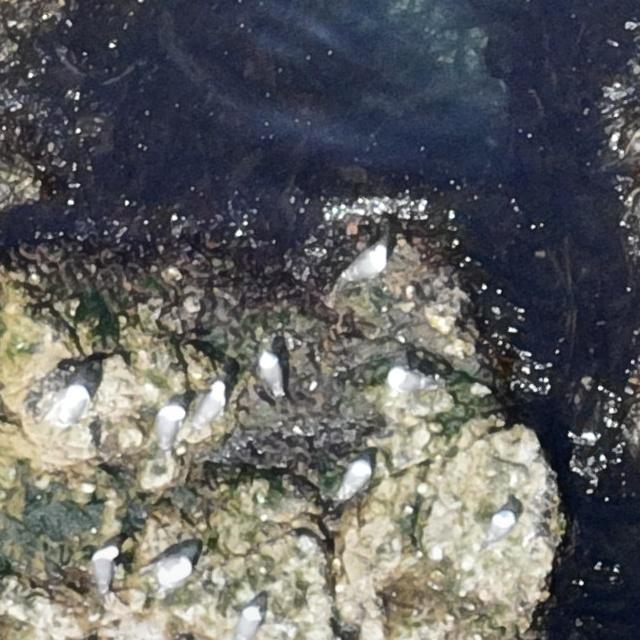umineko: (189, 381, 225, 436), (155, 404, 185, 456), (54, 384, 89, 428), (336, 460, 370, 501), (388, 367, 436, 395), (91, 546, 119, 594), (482, 510, 516, 547), (154, 557, 192, 587), (350, 249, 388, 277), (260, 353, 282, 395), (234, 606, 260, 638)
